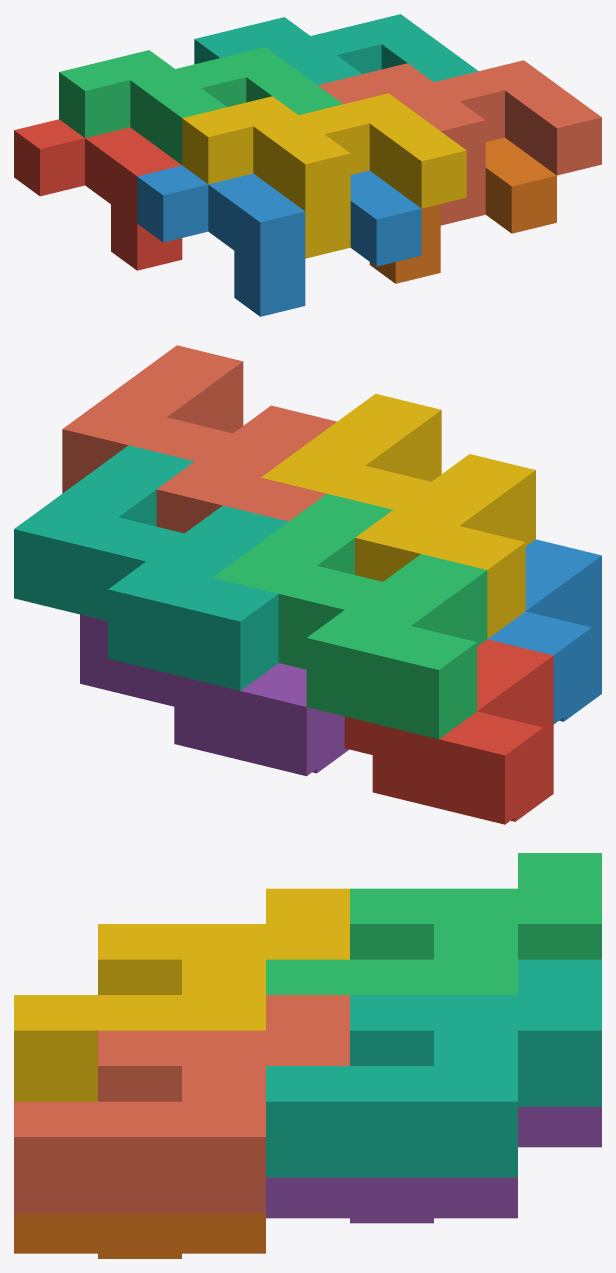
File: tiling.obj
3 views of the same model, one above another, from view 1: azimuth 30°, elevation 25°; view 2: azimuth 150°, elevation 25°; view 3: azimuth 270°, elevation 25° (orthographic). The views are drawn at different scales.
Visible parts, largest first — view 1: copy_1_domain_4, copy_1_domain_2, copy_1_domain_8, copy_1_domain_3, copy_1_domain_1, copy_1_domain_7, copy_1_domain_6; view 2: copy_1_domain_7, copy_1_domain_3, copy_1_domain_4, copy_1_domain_8, copy_1_domain_1, copy_1_domain_5, copy_1_domain_2; view 3: copy_1_domain_7, copy_1_domain_8, copy_1_domain_4, copy_1_domain_3, copy_1_domain_5, copy_1_domain_6.
Boxes of the visible parts, <box> form: copy_1_domain_4: <box>182,93,466,258</box>; copy_1_domain_2: <box>137,165,421,316</box>; copy_1_domain_8: <box>318,60,601,225</box>; copy_1_domain_3: <box>59,47,342,164</box>; copy_1_domain_1: <box>14,119,182,270</box>; copy_1_domain_7: <box>194,14,478,84</box>; copy_1_domain_6: <box>369,137,556,283</box>; copy_1_domain_7: <box>14,445,288,690</box>; copy_1_domain_3: <box>213,493,487,739</box>; copy_1_domain_4: <box>261,393,535,638</box>; copy_1_domain_8: <box>62,345,336,533</box>; copy_1_domain_1: <box>344,639,553,824</box>; copy_1_domain_5: <box>80,614,349,776</box>; copy_1_domain_2: <box>488,539,601,724</box>; copy_1_domain_7: <box>266,959,601,1177</box>; copy_1_domain_8: <box>14,995,349,1213</box>; copy_1_domain_4: <box>14,888,349,1101</box>; copy_1_domain_3: <box>266,853,601,994</box>; copy_1_domain_5: <box>266,1106,601,1223</box>; copy_1_domain_6: <box>14,1213,265,1258</box>.
Size of the model in its own units: 9 by 3 by 7.
